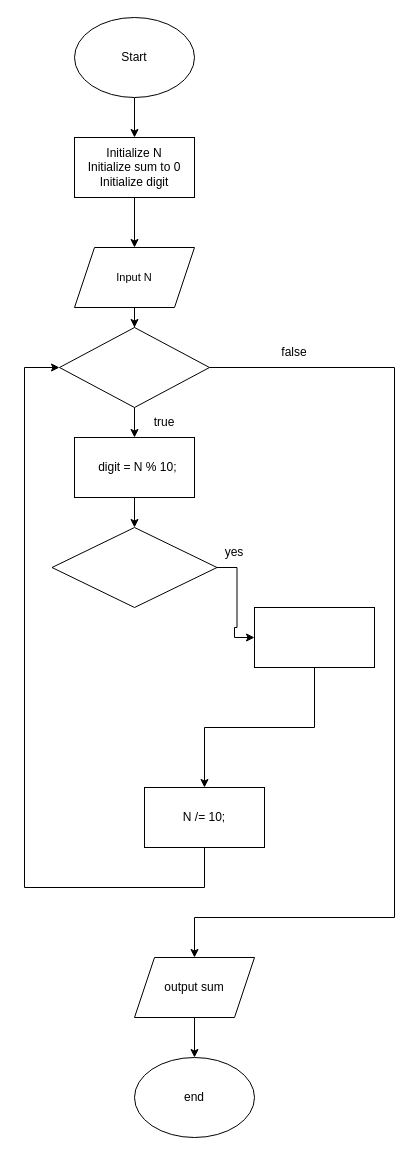
The diagram is 420 pixels wide and 1155 high, and some of its shapes have lost their labels. The shapes that lost their labels are listed below. From the top down, each one's box as (x1, y1, x2, y2) in pixels, then its label:
(58, 326, 210, 408): while N > 0
(51, 526, 217, 608): digit > 2 && digit % 2 != 0
(254, 606, 374, 668): sum += digit;
